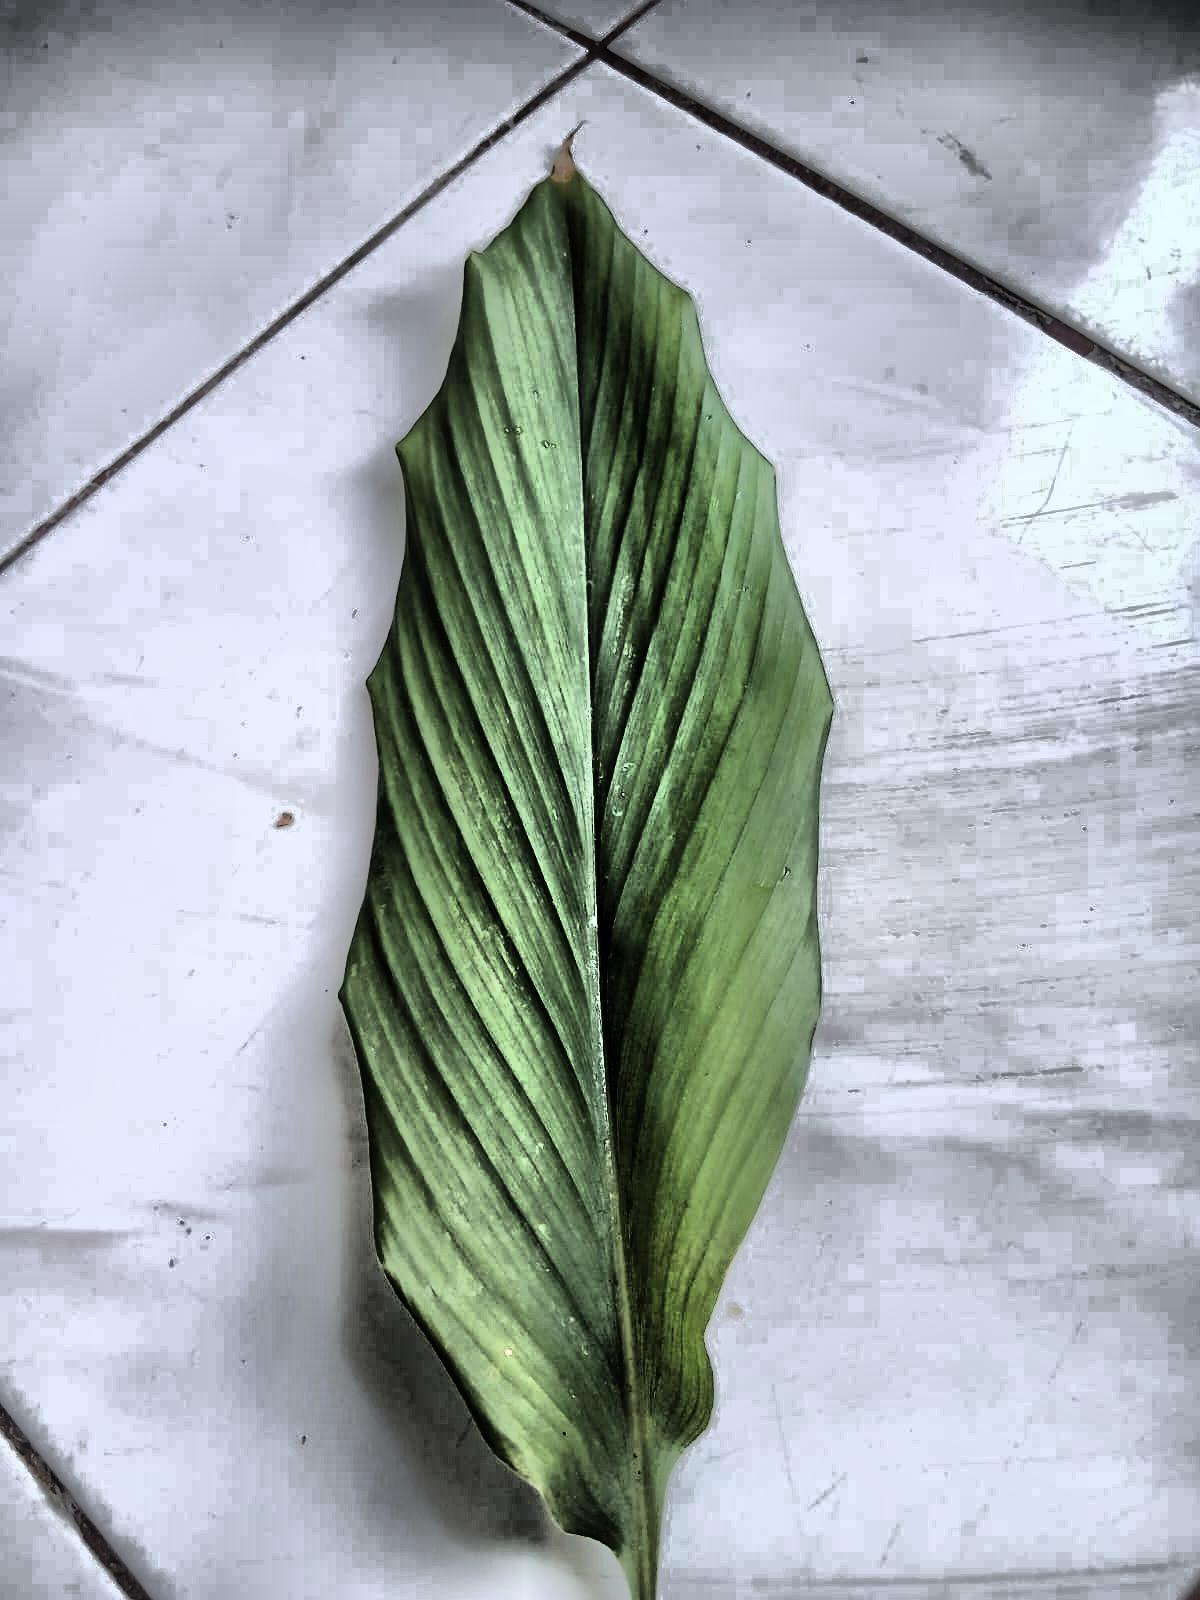daun kunyit: (342, 147, 831, 1599)
